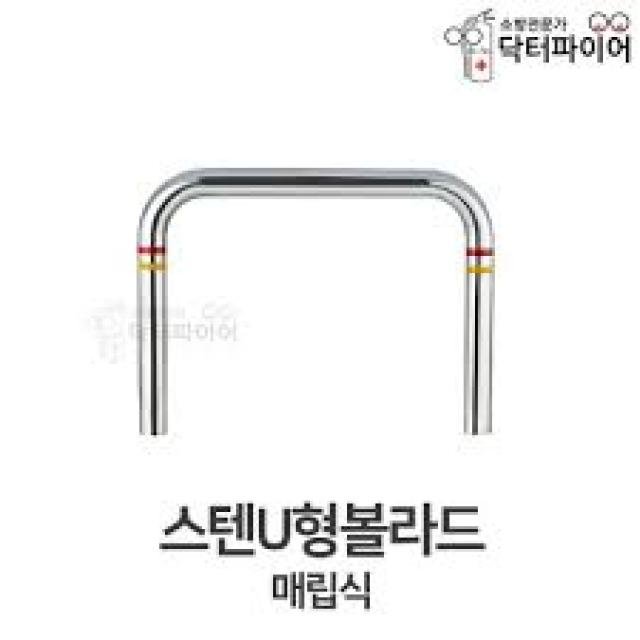bollard: (126, 154, 503, 452)
